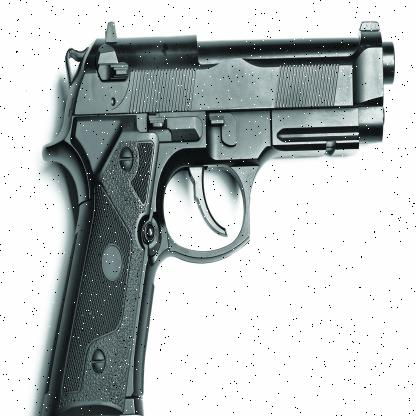gun: (42, 12, 400, 414)
